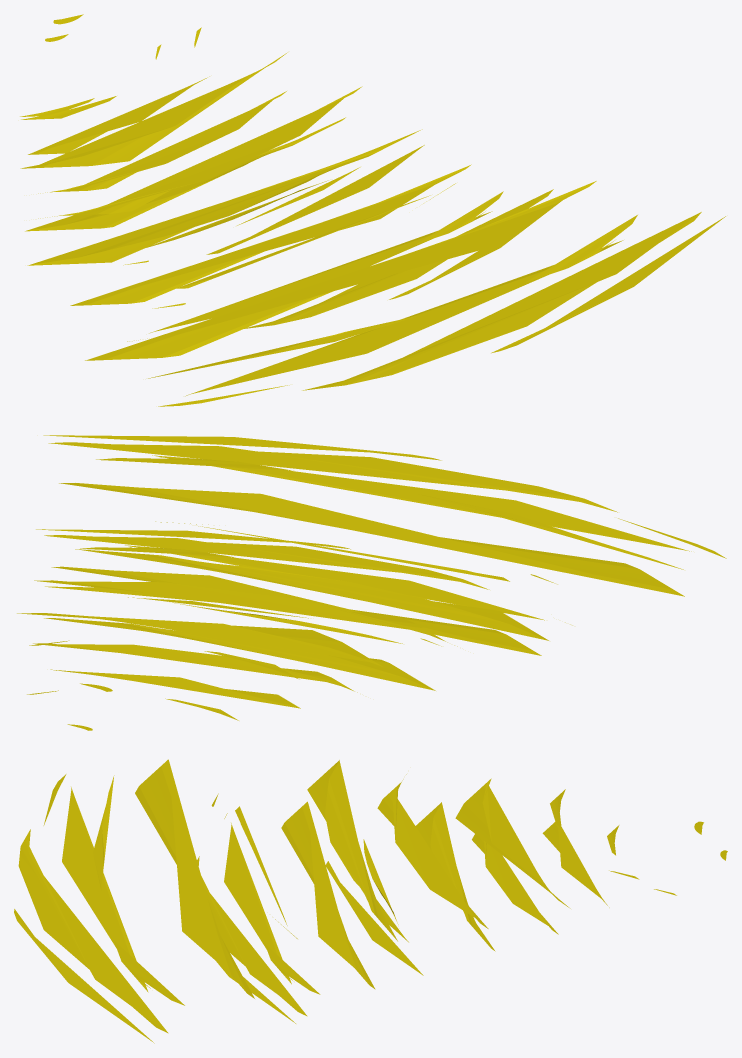
Rendered from swipe-attack.gltf.
3 renders of one model, top to bottom at view 1: azimuth 30°, elevation 25°; view 2: azimuth 150°, elevation 25°; view 3: azimuth 270°, elevation 25°, orthographic. The views are drawn at different scales.
Parts seen in each view (by area): view 1: Circle.002; view 2: Circle.002; view 3: Circle.002.
Boxes of the visible parts, box(x1,y1,x2,y2) form: Circle.002: box(20, 14, 725, 406); Circle.002: box(17, 435, 726, 730); Circle.002: box(14, 759, 727, 1043).
Bounding box in the file's own units: 5.29 × 0.6562 × 5.67.
1 material, 1 textured.
